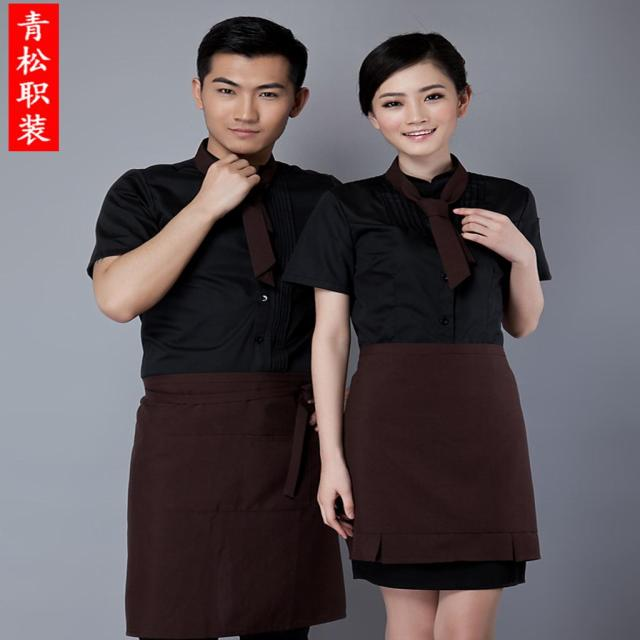nomask: (202, 45, 298, 153), (372, 58, 458, 158)
